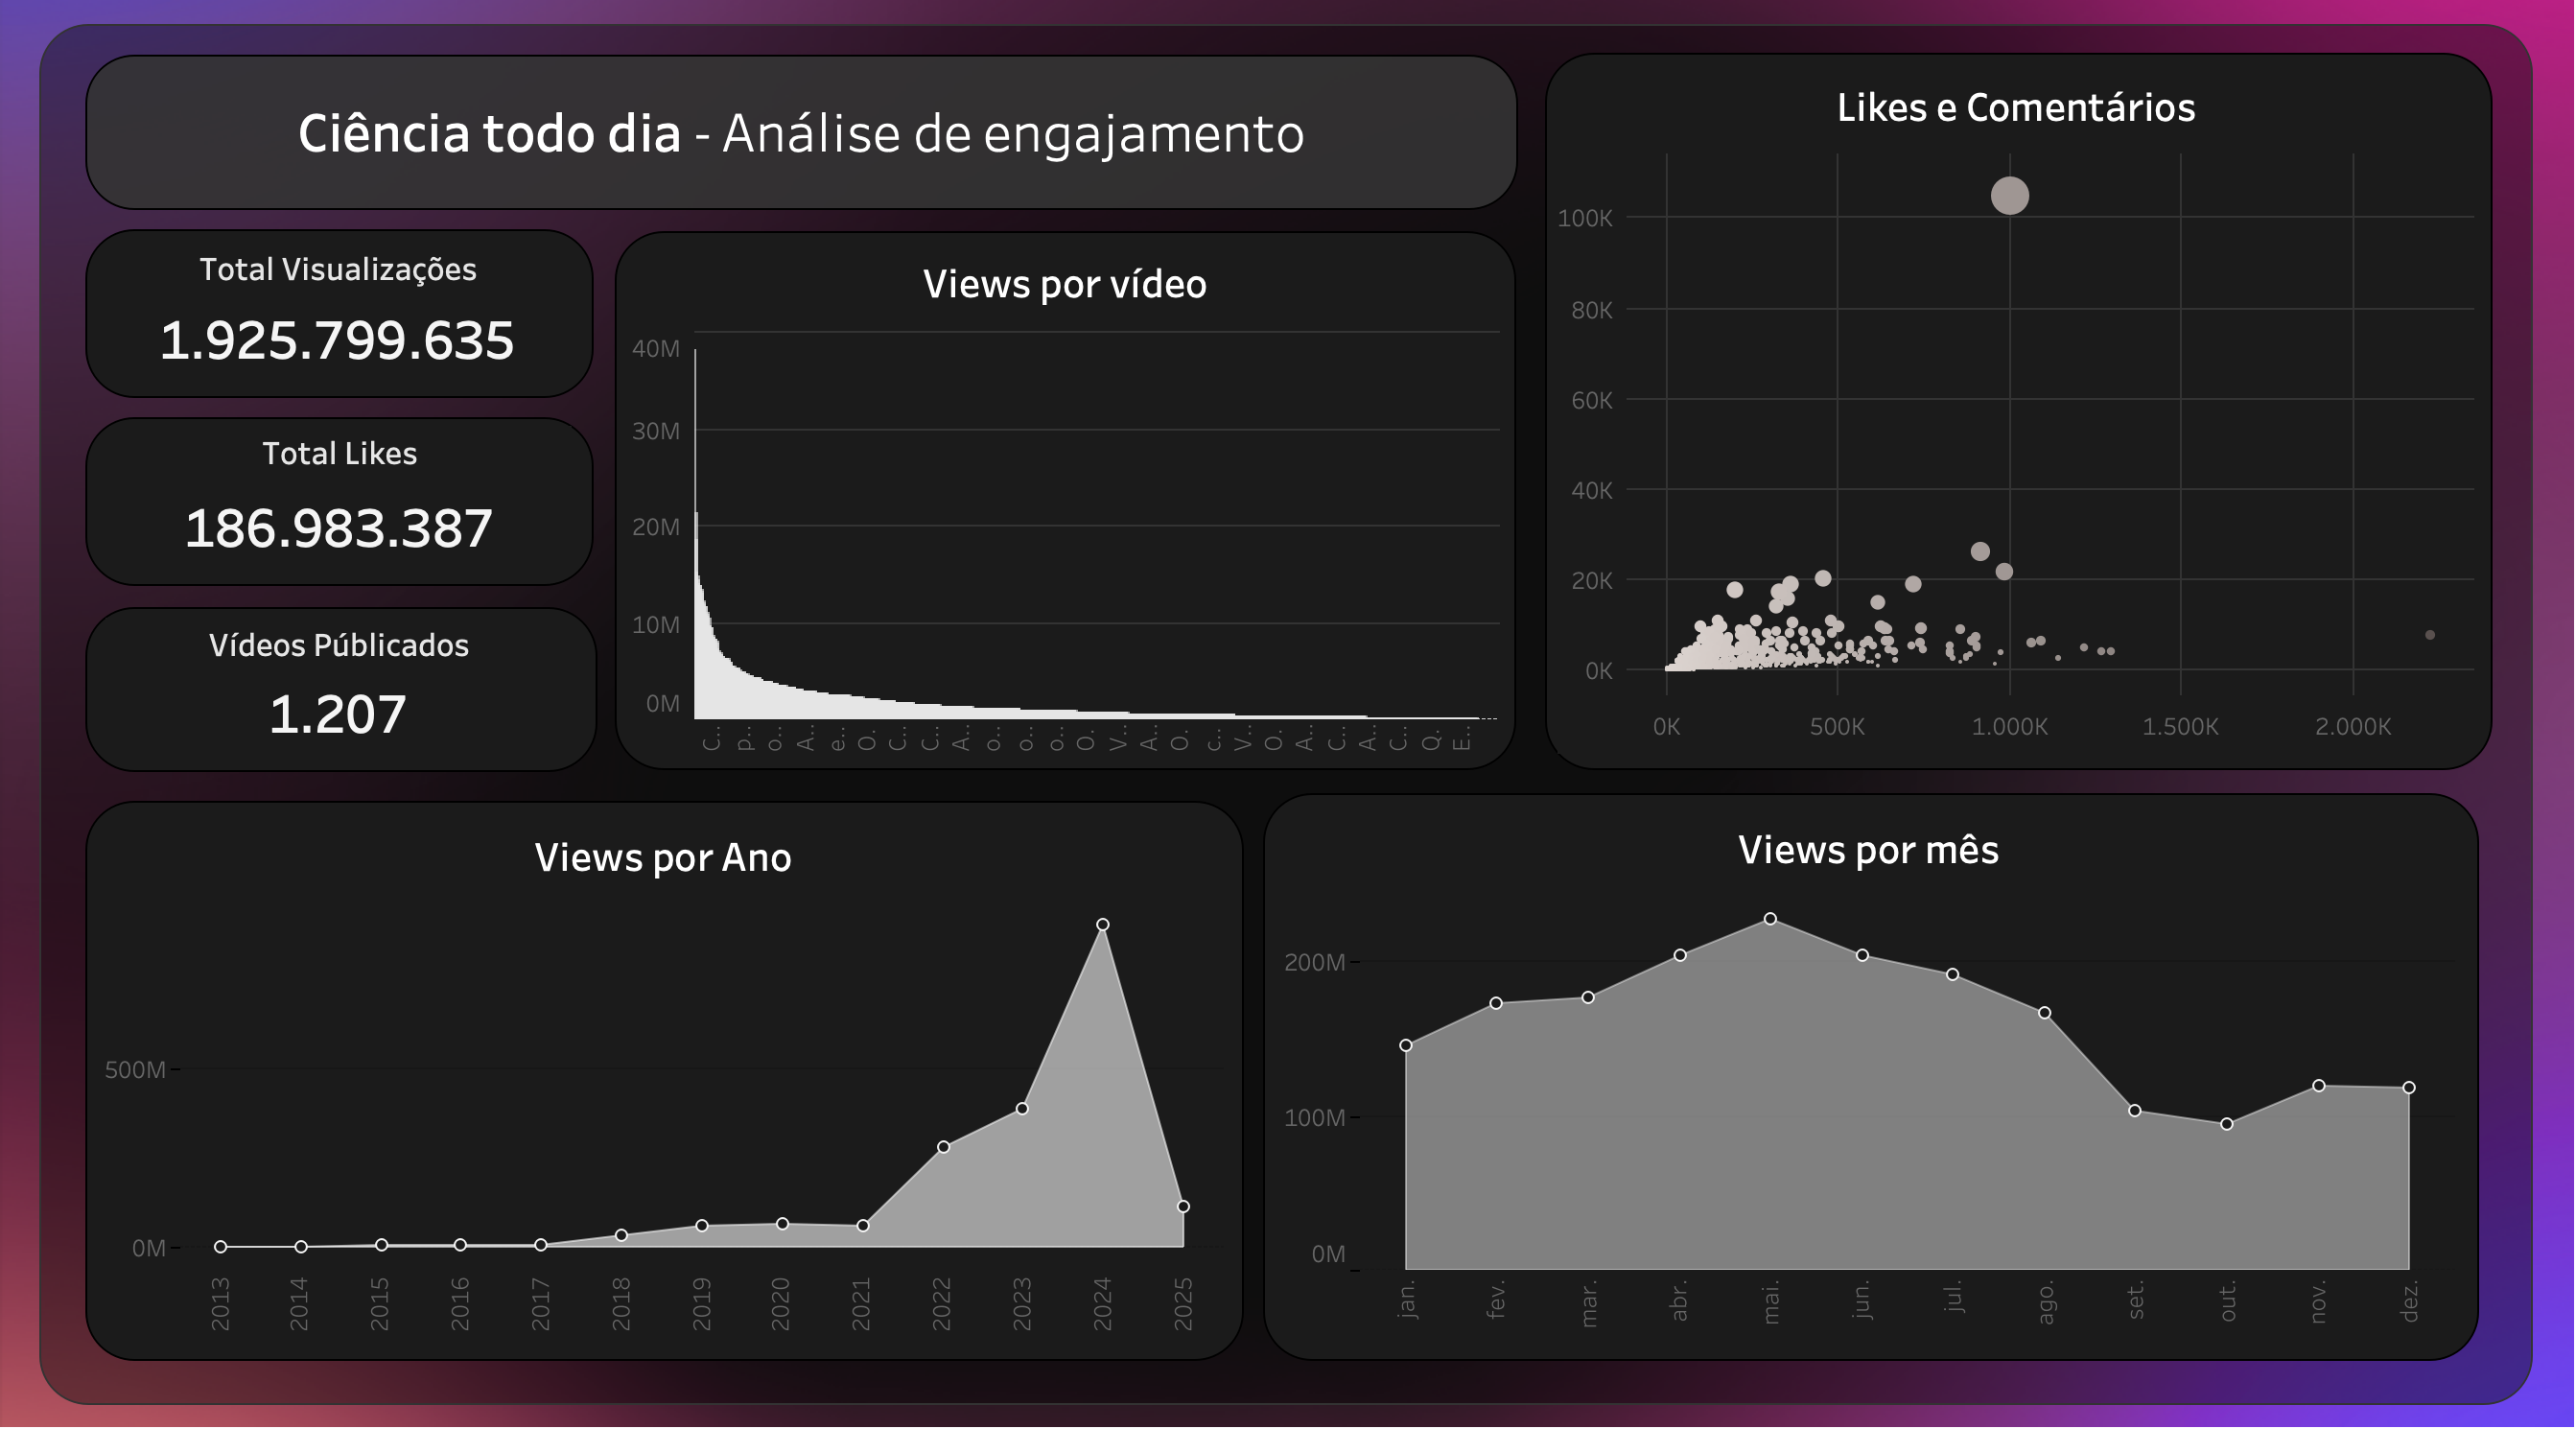

Layout of this report page (visuals, bound fields, positions):
{"tool":"tableau","page":{"name":"Dashboard","canvas":[1366,768],"ordinal":0},"visuals":[{"type":"worksheet","title":"design","mark":"Automatic","box":[1,0,1365,768]},{"type":"image","param":"Image/Design sem nome.png","box":[8,8,1350,752]},{"type":"worksheet","title":"Likes & Comments","mark":"Circle","rows":["comment_count"],"cols":["like_count"],"box":[824,49,479,356]},{"type":"worksheet","title":"Total views","mark":"Automatic","box":[68,138,242,74]},{"type":"worksheet","title":"Views por video","mark":"Bar","rows":["view_count"],"cols":["title"],"box":[341,141,453,264]},{"type":"worksheet","title":"total likes","mark":"Automatic","box":[69,234,241,78]},{"type":"worksheet","title":"Videos publicados","mark":"Automatic","box":[67,334,244,72]},{"type":"worksheet","title":"views por mês","mark":"Line","rows":["view_count","view_count"],"cols":["published_at"],"box":[681,436,611,278]},{"type":"worksheet","title":"views por ano","mark":"Circle","rows":["view_count","view_count"],"cols":["published_at"],"box":[66,440,584,273]}]}

Visuals, with their boxes in screenshot pixels (x1, y1, x2, y2), scaled from the page's 1366x768 canvas onto the 2576x1429 screenshot:
"design" worksheet: [2, 0, 2575, 1428]
image: [15, 15, 2561, 1414]
"Likes & Comments" worksheet (Circle marks): [1554, 91, 2457, 754]
"Total views" worksheet: [129, 257, 585, 394]
"Views por video" worksheet (Bar marks): [644, 263, 1497, 754]
"total likes" worksheet: [130, 435, 585, 580]
"Videos publicados" worksheet: [127, 621, 587, 756]
"views por mês" worksheet (Line marks): [1284, 811, 2436, 1328]
"views por ano" worksheet (Circle marks): [125, 819, 1226, 1326]
